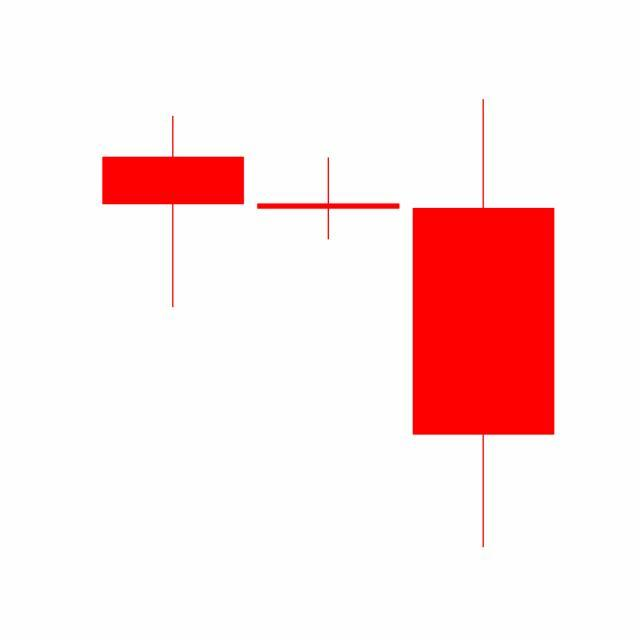Spinning Top: (250, 157, 407, 242)
